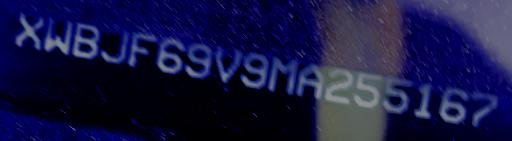letter: (265, 52, 299, 107), (10, 10, 50, 56), (152, 31, 186, 82), (382, 72, 418, 120), (126, 28, 164, 73), (43, 12, 77, 62), (436, 84, 472, 130), (239, 46, 271, 97), (72, 16, 104, 67), (322, 61, 354, 110), (352, 66, 382, 117), (213, 42, 245, 89), (98, 24, 130, 71), (182, 37, 214, 84), (468, 85, 498, 133), (294, 57, 324, 104), (414, 78, 436, 126)
